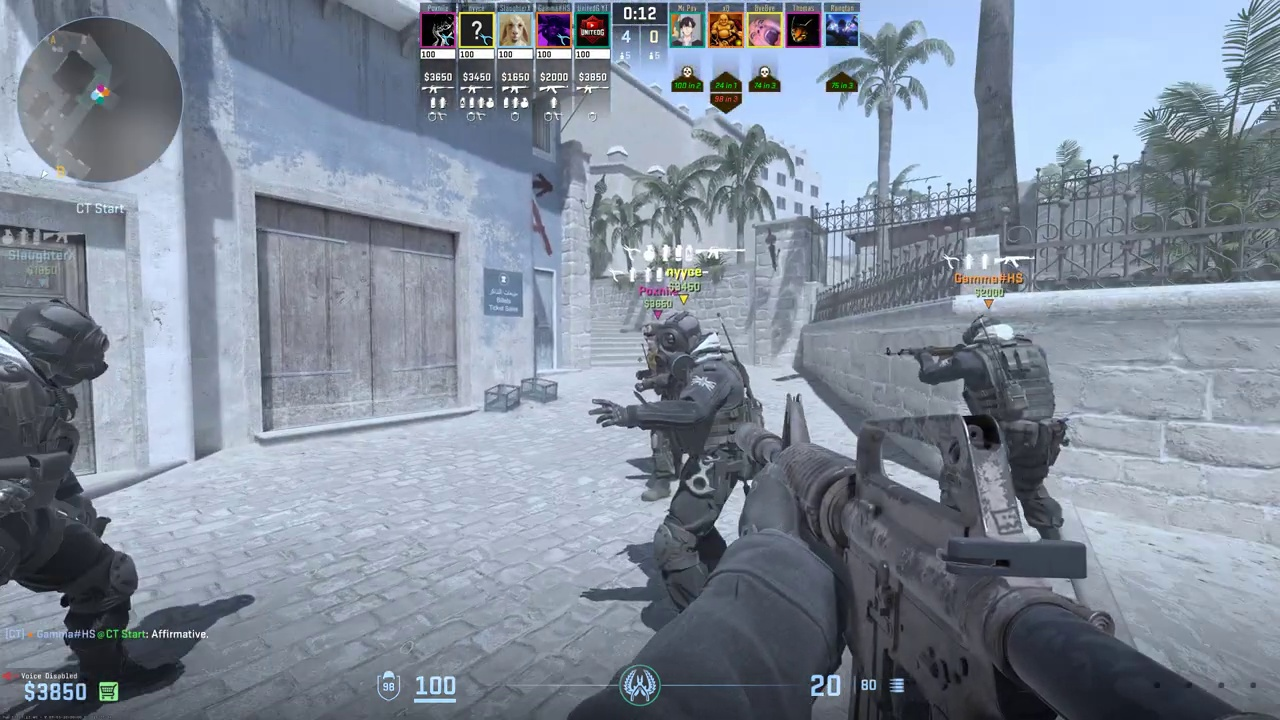CT: (0, 299, 156, 710), (624, 316, 766, 588), (932, 316, 1060, 542)
